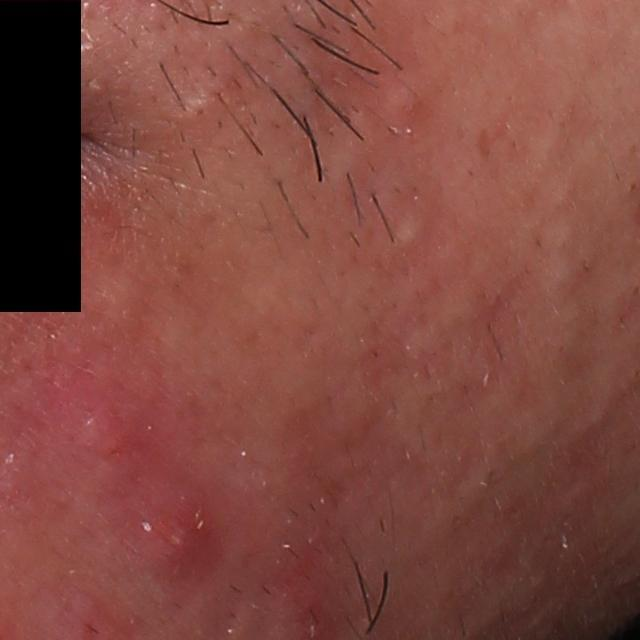comedo: (443, 280, 483, 333), (186, 88, 220, 123)
papule: (145, 494, 229, 580), (70, 396, 133, 469)
